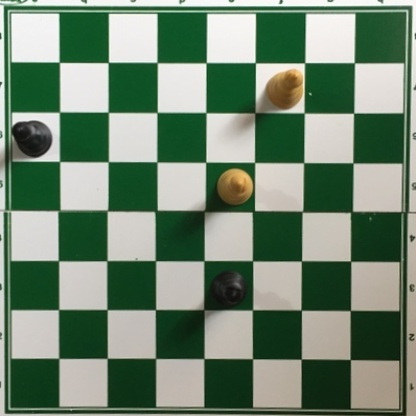black-bishop: (10, 120, 55, 158), (210, 271, 247, 309)
white-bishop: (216, 165, 257, 208), (263, 69, 304, 111)
